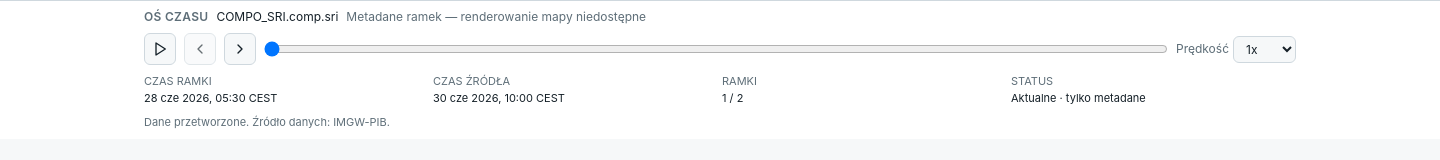
TimelineBar › steps frames with next button
Expected: the text "1 / 2" is shown, [722,90,743,104]
Click the button named "Następna ramka" at {"x": 240, "y": 49}, box [224,33,256,65]
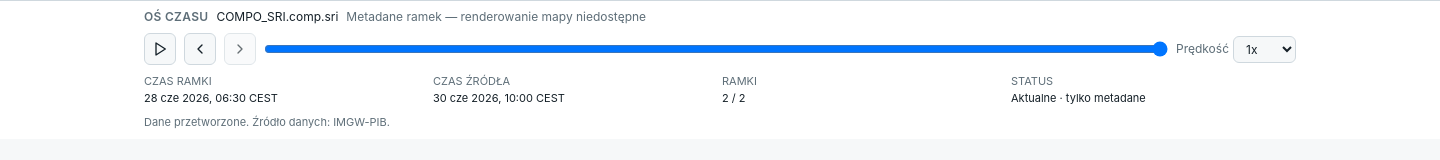
Expected: the text "2 / 2" is shown, [722,90,746,104]
